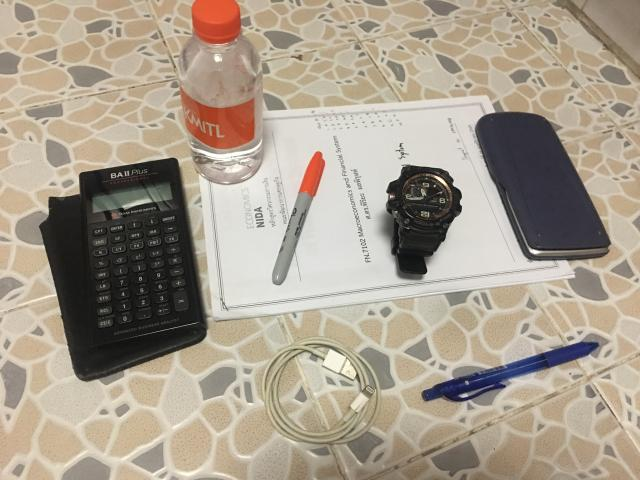Pen: (421, 341, 599, 401), (272, 151, 325, 285)
Watch: (386, 165, 461, 274)
bottle: (178, 0, 262, 184)
paper: (192, 96, 574, 320)
wire: (262, 336, 381, 444)
